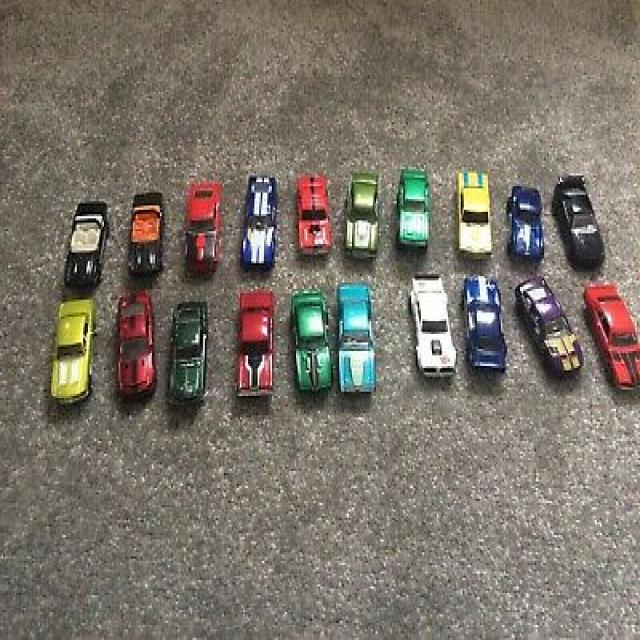Car: (515, 272, 584, 377), (584, 278, 640, 390), (410, 272, 458, 377), (51, 296, 98, 402), (556, 174, 606, 268), (462, 272, 509, 370), (235, 287, 277, 396), (338, 280, 378, 394), (117, 289, 158, 398), (292, 287, 334, 392), (170, 299, 210, 406), (64, 199, 110, 289), (242, 173, 280, 270), (456, 169, 493, 255), (507, 184, 546, 261)
